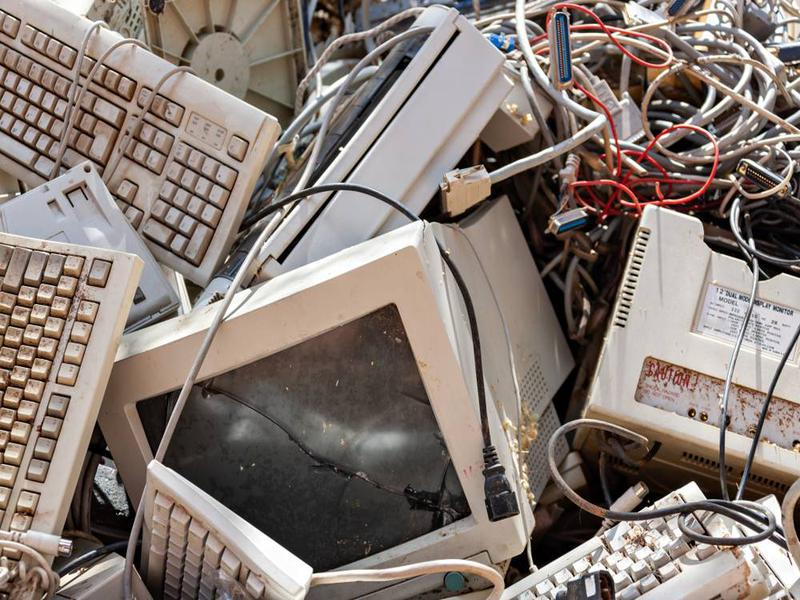keyboard: (1, 1, 280, 289), (2, 231, 147, 600), (490, 483, 755, 596), (113, 461, 319, 600)
tv_pc: (102, 221, 580, 564)
